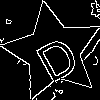D: (28, 27, 83, 84)
